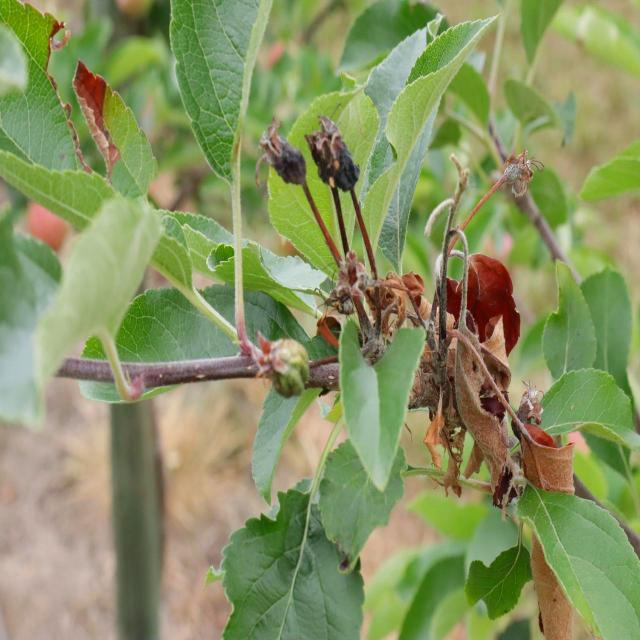-FireBlight-: (413, 243, 587, 638)
